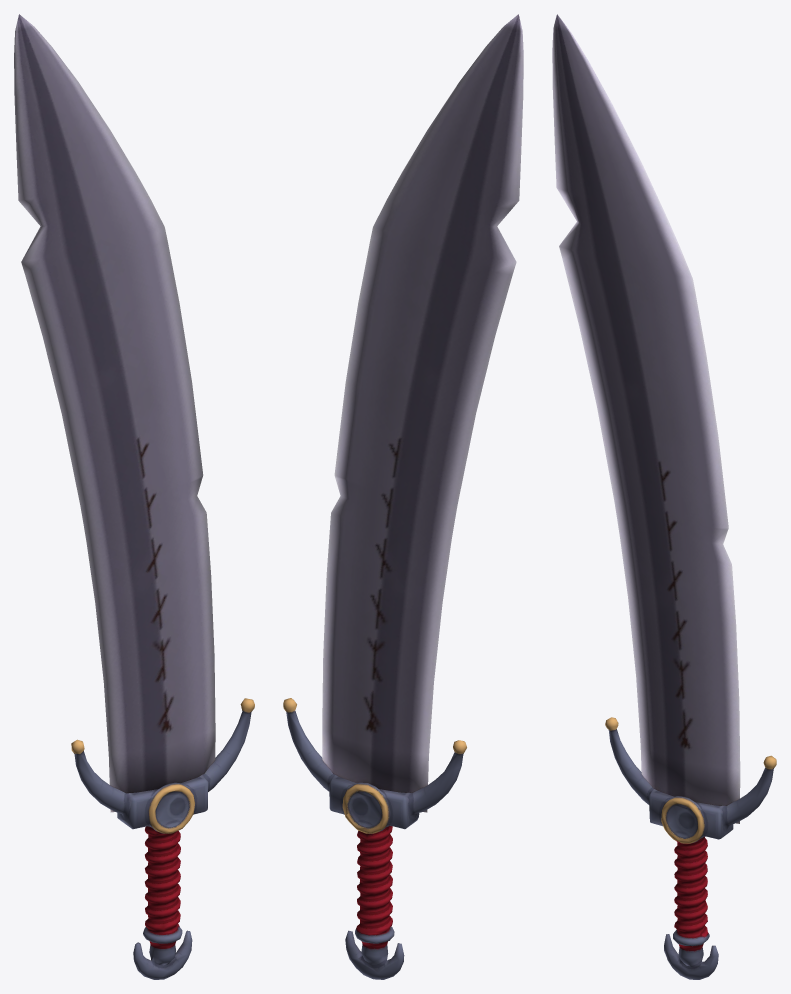
The model's file is weapon_dusk.glb.
3 views of the same model, side by side, from view 1: azimuth 30°, elevation 25°; view 2: azimuth 150°, elevation 25°; view 3: azimuth 330°, elevation 25° (orthographic). The views are drawn at different scales.
Parts seen in each view (by area): view 1: weapon_dusk; view 2: weapon_dusk; view 3: weapon_dusk.
Part boxes in pixels (x1,y1,x2,y2): weapon_dusk: (14, 14, 254, 979); weapon_dusk: (283, 14, 523, 979); weapon_dusk: (552, 14, 776, 979).
Size of the model in its own units: 0.2752 by 1.1 by 0.043.
1 material, 1 textured.
